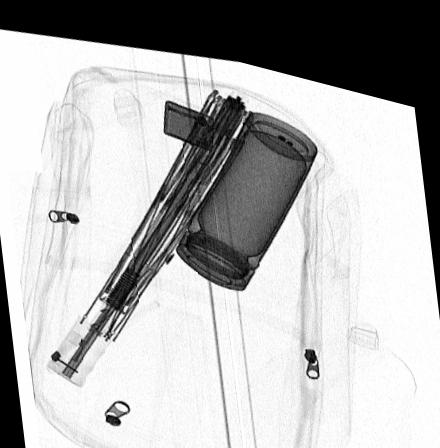Lighter: (161, 92, 213, 141)
